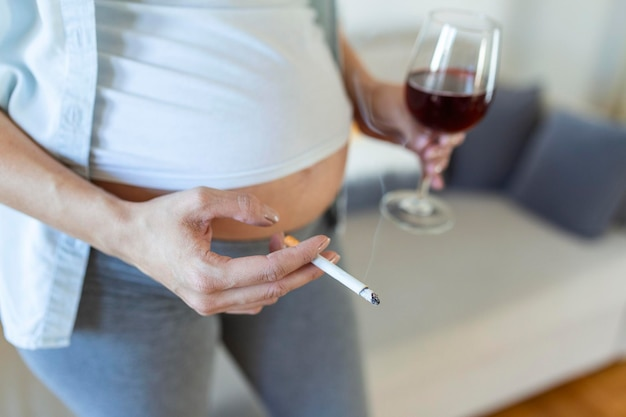alcohol: (379, 8, 504, 235)
cigarette: (281, 232, 382, 305)
